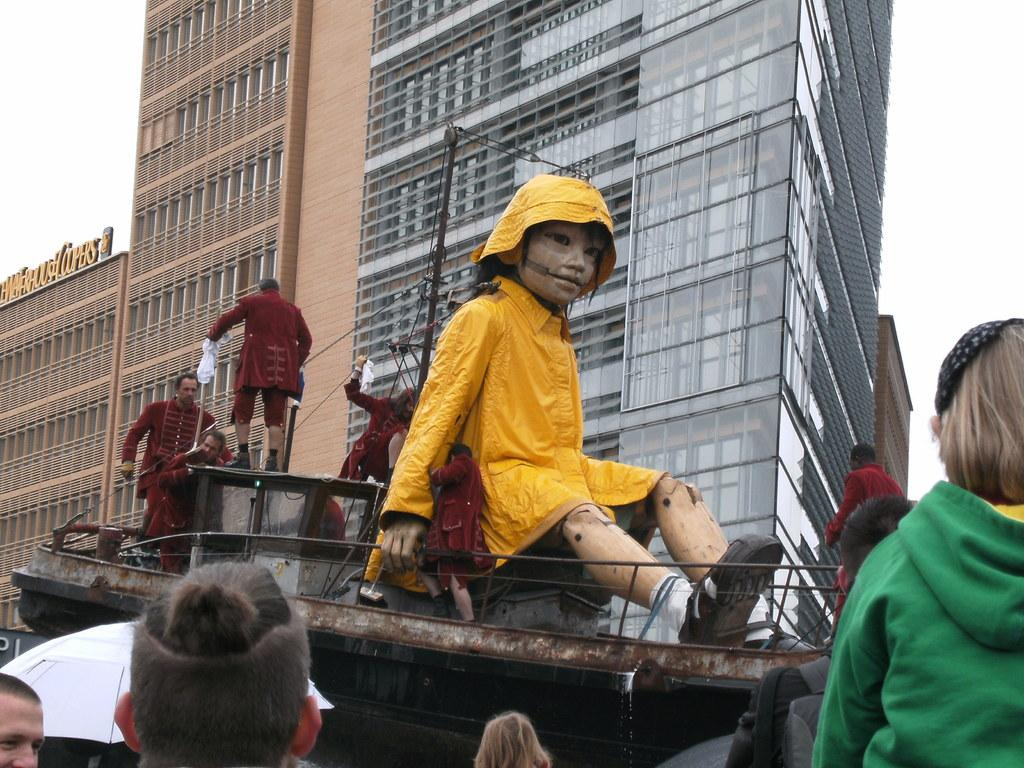Hat: (482, 174, 622, 280)
